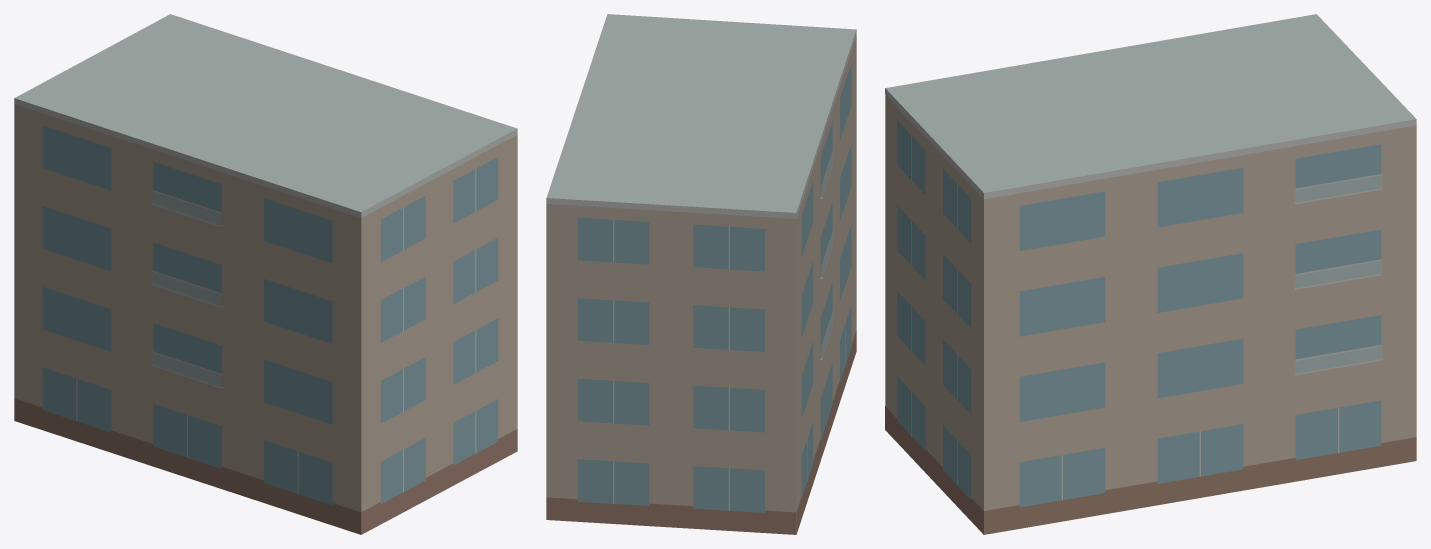
The model's file is survey-upis-32698464.glb.
The picture shows the model from 3 angles, left to right: view 1: azimuth 30°, elevation 25°; view 2: azimuth 150°, elevation 25°; view 3: azimuth 270°, elevation 25°; orthographic projection. The views are drawn at different scales.
Parts seen in each view (by area): view 1: survey-upis-32698464.tmp; view 2: survey-upis-32698464.tmp; view 3: survey-upis-32698464.tmp.
Boxes of the visible parts, x1,y1,x2,y2 form: survey-upis-32698464.tmp: [14, 14, 517, 534]; survey-upis-32698464.tmp: [546, 14, 856, 534]; survey-upis-32698464.tmp: [885, 14, 1416, 534].
Bounding box in the file's own units: 14.9 × 13.25 × 18.68.
